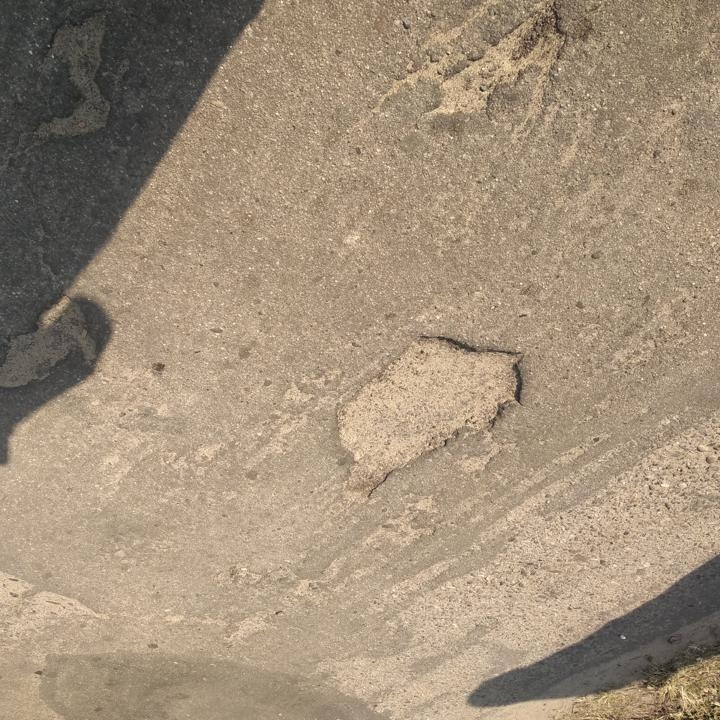pothole: (325, 331, 532, 509), (417, 0, 576, 124)
